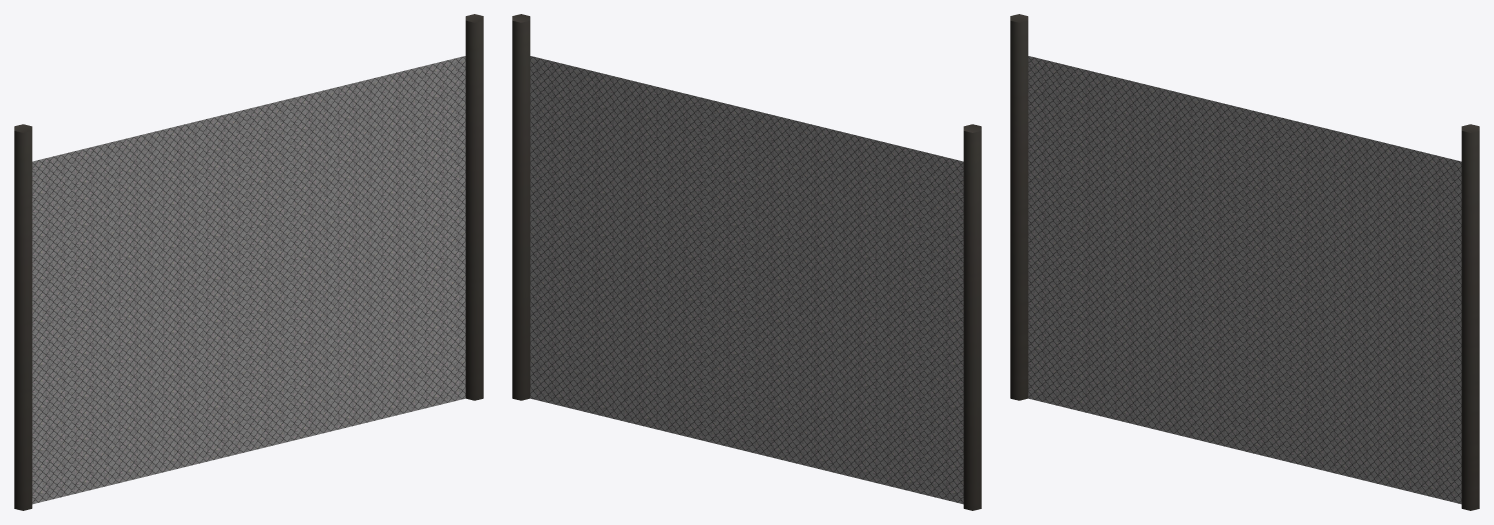
Rendered from wire.fbx.
The picture shows the model from 3 angles, left to right: view 1: azimuth 30°, elevation 25°; view 2: azimuth 150°, elevation 25°; view 3: azimuth 330°, elevation 25°; orthographic projection.
Parts seen in each view (by area): view 1: pCylinder3; view 2: pCylinder3; view 3: pCylinder3.
Part boxes in pixels (bbox=[...]): pCylinder3: bbox=[14, 14, 483, 510]; pCylinder3: bbox=[512, 14, 981, 510]; pCylinder3: bbox=[1010, 14, 1479, 510].
Size of the model in its own units: 2.6 by 2 by 0.0866.
Materials: 2 (2 with a texture image).
